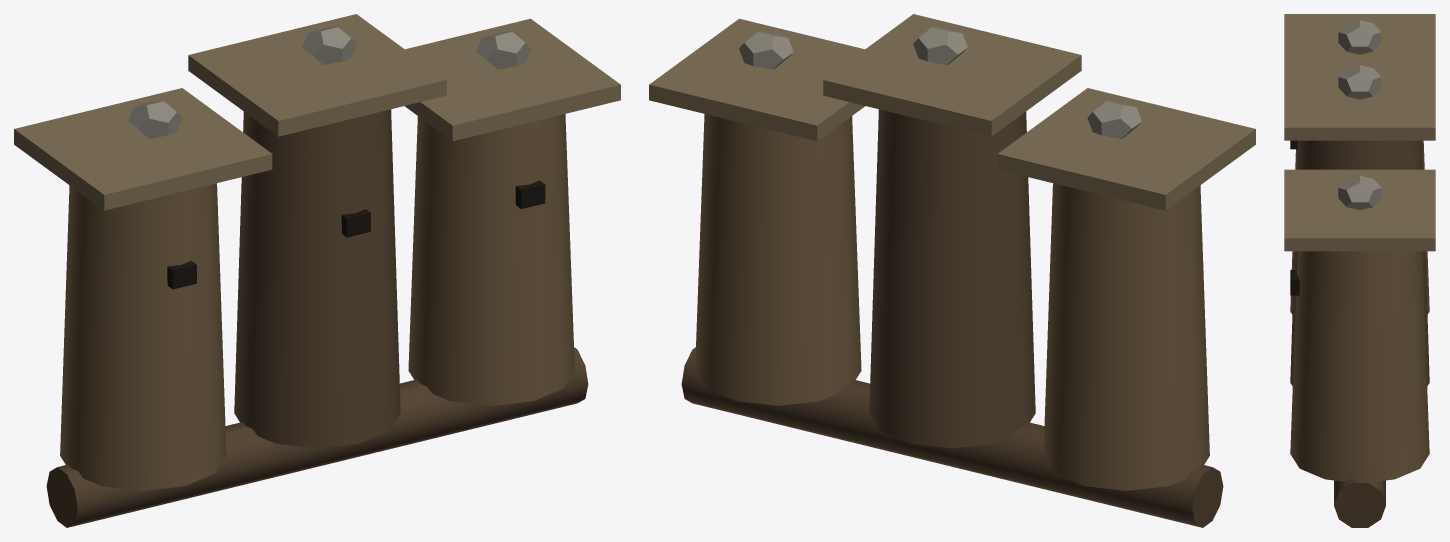
The model's file is vulyky.glb.
The picture shows the model from 3 angles, left to right: view 1: azimuth 30°, elevation 25°; view 2: azimuth 150°, elevation 25°; view 3: azimuth 270°, elevation 25°; orthographic projection. The views are drawn at different scales.
Visible parts, largest first — view 1: hive (×3), lid (×3), base, stone (×3), hole (×2); view 2: hive (×3), lid (×3), base, stone (×3); view 3: hive (×3), lid (×3), stone (×3), base, hole.
Part boxes in pixels (x1=…): hive (×3): x1=60, y1=109, x2=574, y2=490; lid (×3): x1=14, y1=14, x2=620, y2=210; base: x1=46, y1=347, x2=588, y2=527; stone (×3): x1=128, y1=26, x2=530, y2=138; hole (×2): x1=167, y1=180, x2=545, y2=289; hive (×3): x1=695, y1=109, x2=1209, y2=490; lid (×3): x1=649, y1=14, x2=1255, y2=210; base: x1=681, y1=347, x2=1223, y2=527; stone (×3): x1=739, y1=26, x2=1141, y2=138; hive (×3): x1=1290, y1=140, x2=1429, y2=481; lid (×3): x1=1284, y1=14, x2=1435, y2=251; stone (×3): x1=1338, y1=20, x2=1381, y2=209; base: x1=1334, y1=478, x2=1385, y2=527; hole: x1=1290, y1=270, x2=1299, y2=295.
Bounding box in the file's own units: 1.72 × 1.37 × 0.52.
